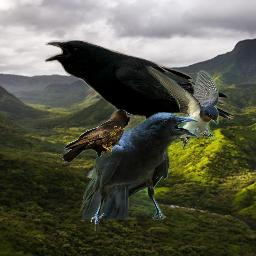Crow: (45, 40, 235, 151), (79, 112, 199, 231), (62, 108, 137, 165)
Swallow: (140, 65, 219, 149)
